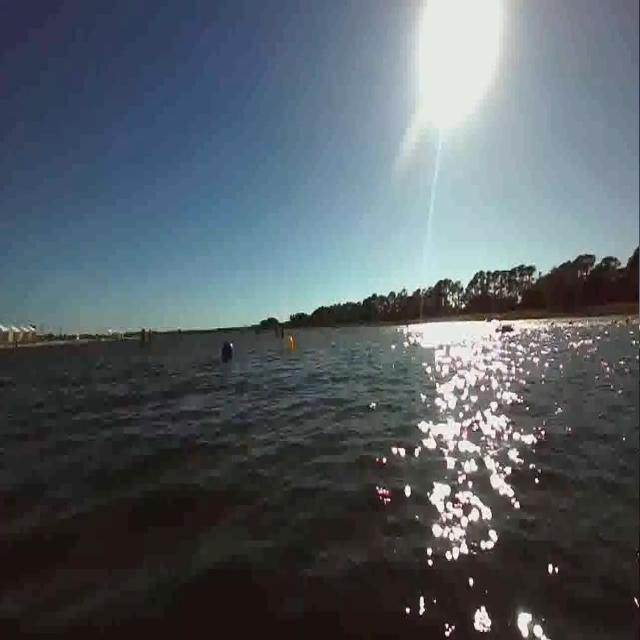blue-buoy: (220, 341, 233, 362)
yellow-buoy: (287, 336, 295, 351)
